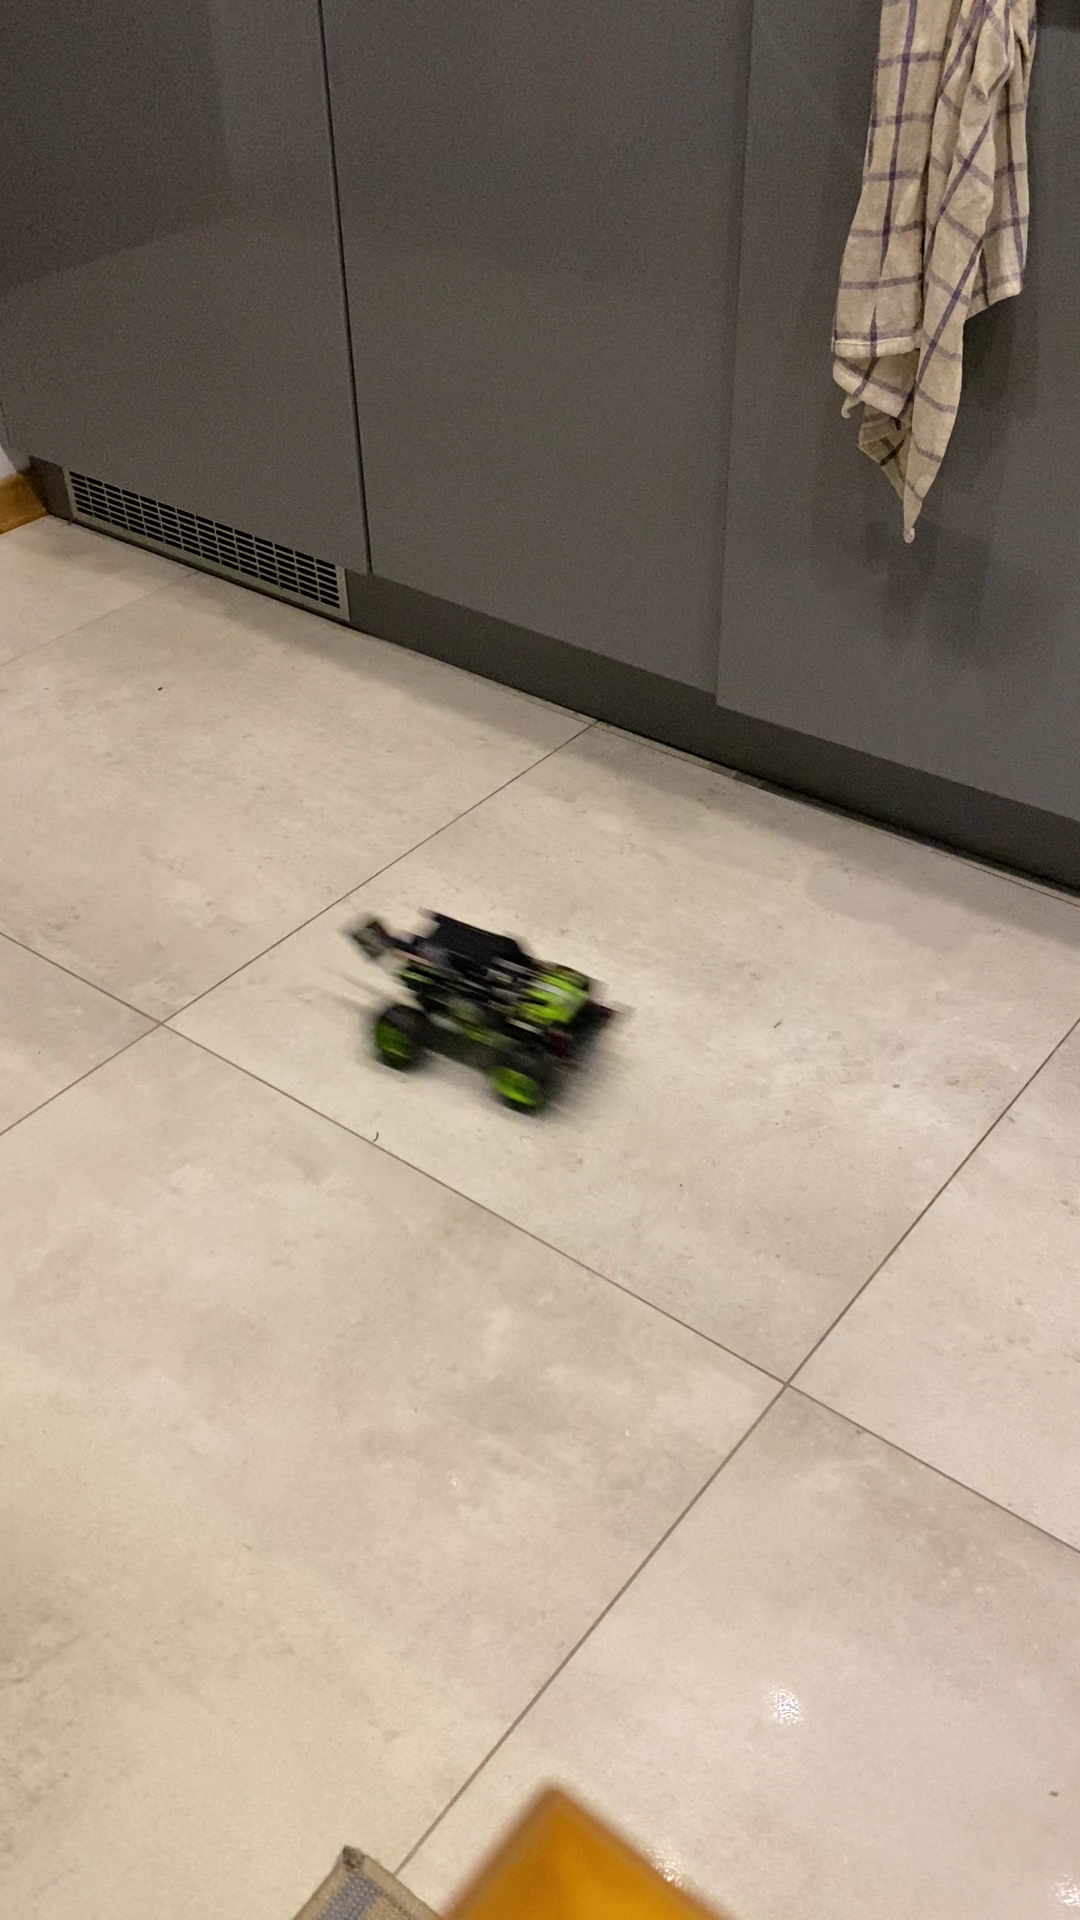car: (360, 902, 607, 1112)
